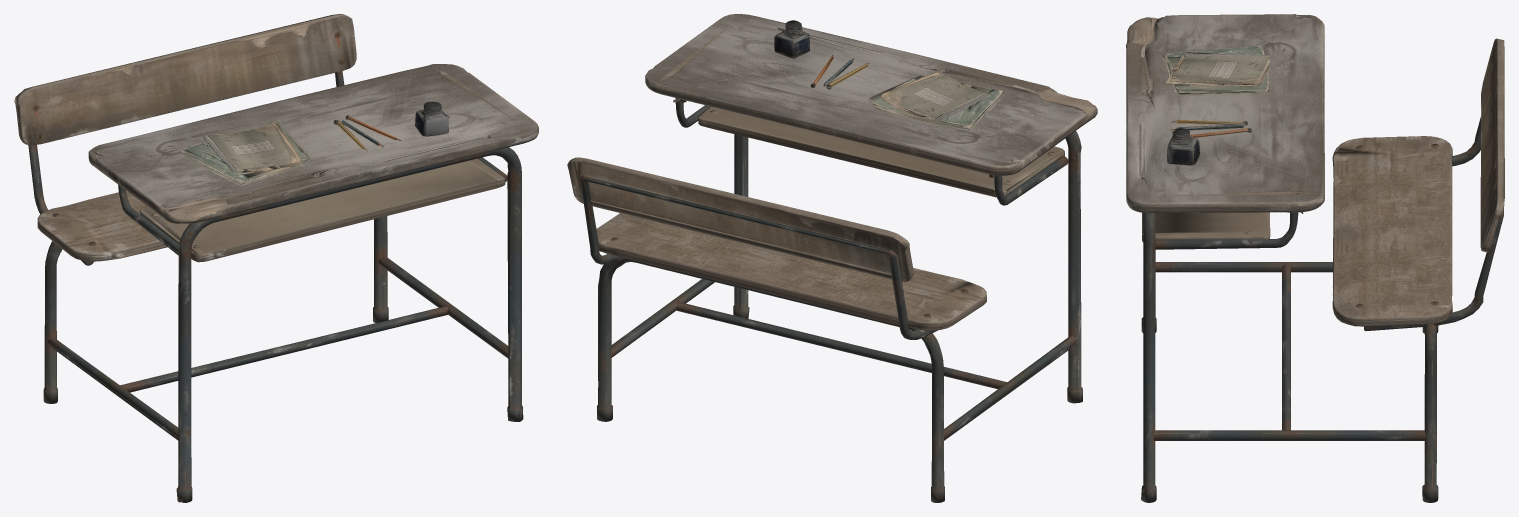
Rendered from silo81_schooldesk.glb.
3 views of the same model, side by side, from view 1: azimuth 30°, elevation 25°; view 2: azimuth 150°, elevation 25°; view 3: azimuth 270°, elevation 25° (orthographic). The views are drawn at different scales.
Size of the model in its own units: 0.9492 by 0.7832 by 0.8062.
1 material, 1 textured.
